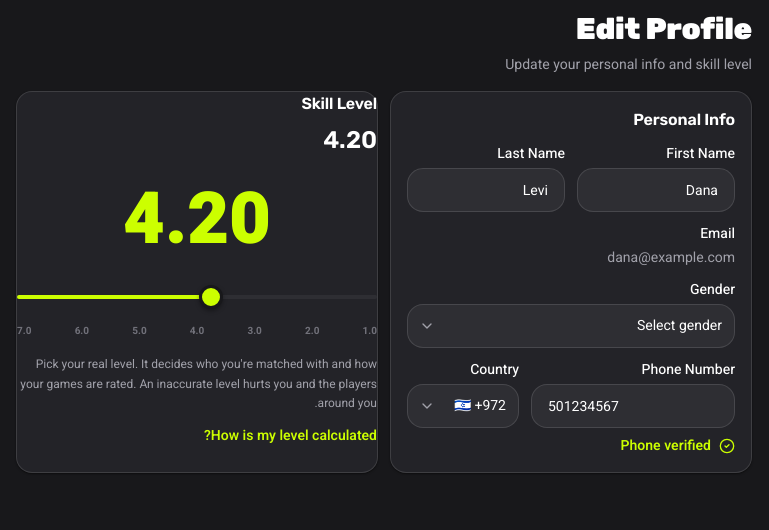
Test: EditProfilePage — submit › submits ONLY the dirty field and shows success
This screenshot has width=769, height=530.
Replace the text in the field labelled "Last Name" with "Cohen" at [486, 190], box [407,168,565,212]
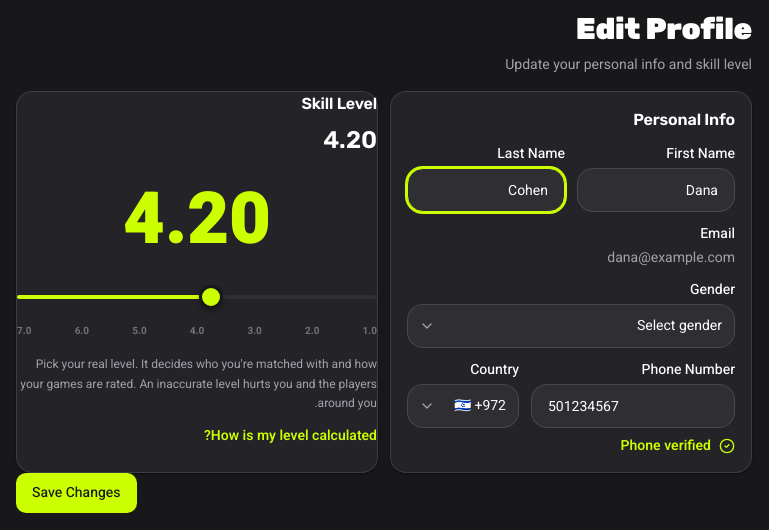
Now the button "Save Changes" is enabled
Click the button "Save Changes".
click(76, 493)  # box [16,473,136,513]
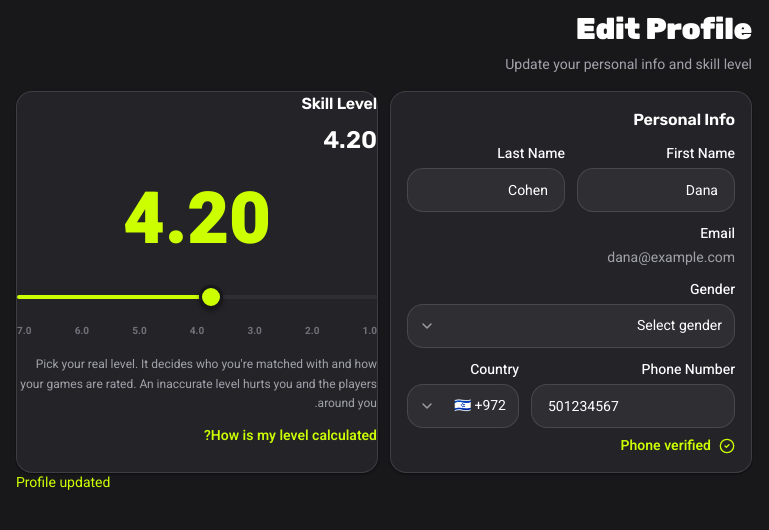
Now the text "Profile updated" is shown, box [16,472,110,493]
